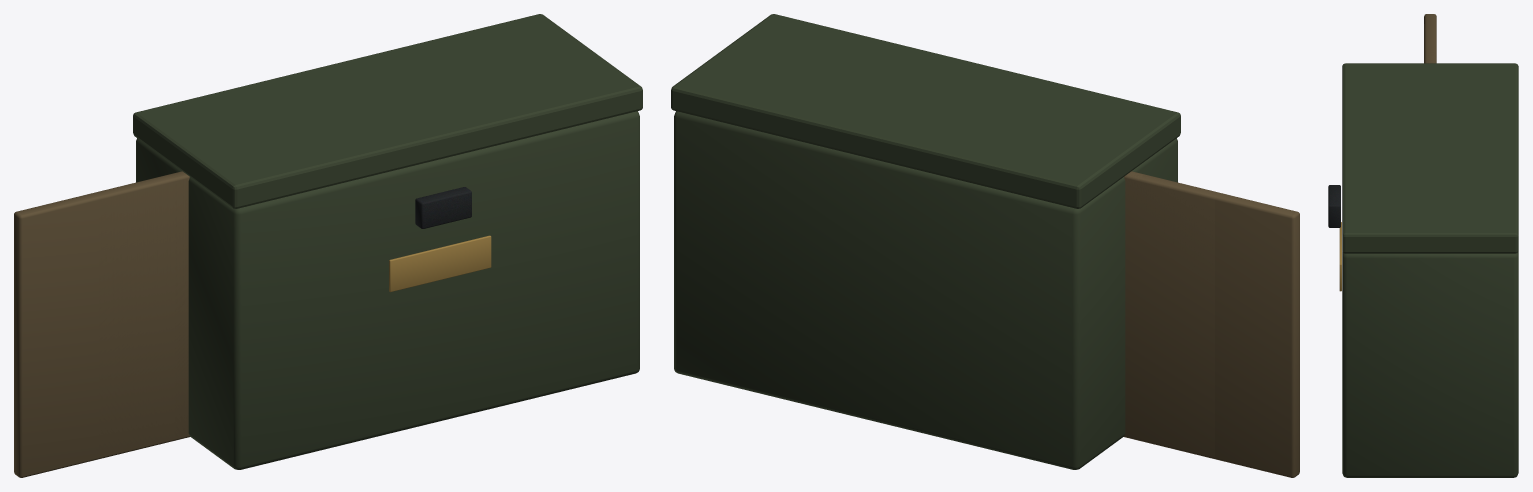
File: prop_weapon_box.glb
3 views of the same model, side by side, from view 1: azimuth 30°, elevation 25°; view 2: azimuth 150°, elevation 25°; view 3: azimuth 270°, elevation 25° (orthographic). The views are drawn at different scales.
Parts seen in each view (by area): view 1: PropMesh, Lid; view 2: PropMesh, Lid; view 3: PropMesh, Lid.
Part boxes in pixels (<box>): PropMesh: <box>14,111,639,477</box>; Lid: <box>133,14,642,208</box>; PropMesh: <box>674,111,1299,477</box>; Lid: <box>671,14,1180,208</box>; PropMesh: <box>1328,14,1518,477</box>; Lid: <box>1342,63,1518,253</box>.
Bounding box in the file's own units: 2.27 × 1.08 × 0.755.
4 materials, 1 textured.
